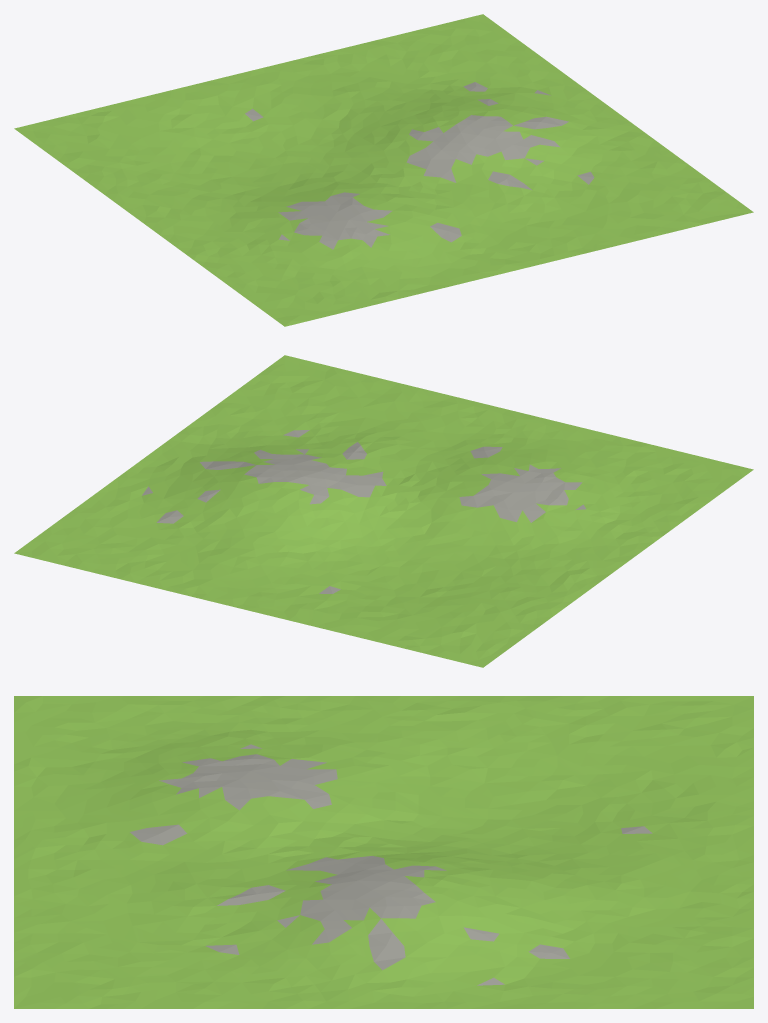
File: terrain_l_b_04.glb
3 renders of one model, top to bottom at view 1: azimuth 30°, elevation 25°; view 2: azimuth 150°, elevation 25°; view 3: azimuth 270°, elevation 25°, orthographic. The views are drawn at different scales.
Parts seen in each view (by area): view 1: CPT_Terrain_L_b_04; view 2: CPT_Terrain_L_b_04; view 3: CPT_Terrain_L_b_04.
Boxes of the visible parts, <box> form: CPT_Terrain_L_b_04: <box>14,14,753,326</box>; CPT_Terrain_L_b_04: <box>14,355,753,667</box>; CPT_Terrain_L_b_04: <box>14,696,753,1008</box>.
Bounding box in the file's own units: 100 × 4.86 × 100.
1 material, 1 textured.
